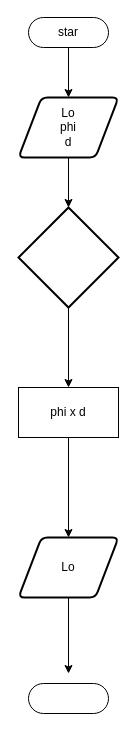
Image size: 136x731. Some labels were removed from this diagram. The shapes that lost their labels are listed below. From the top down, each one's centre as x and y in pixels, then its label:
the point at 68,257: Lo=phiXd
the point at 68,698: end
